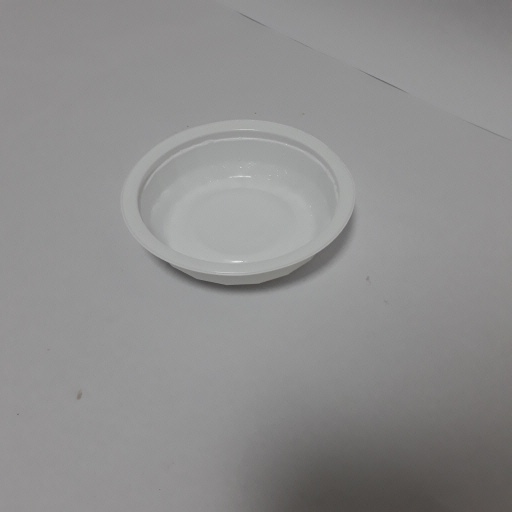Plastic_5: (116, 117, 357, 290)
